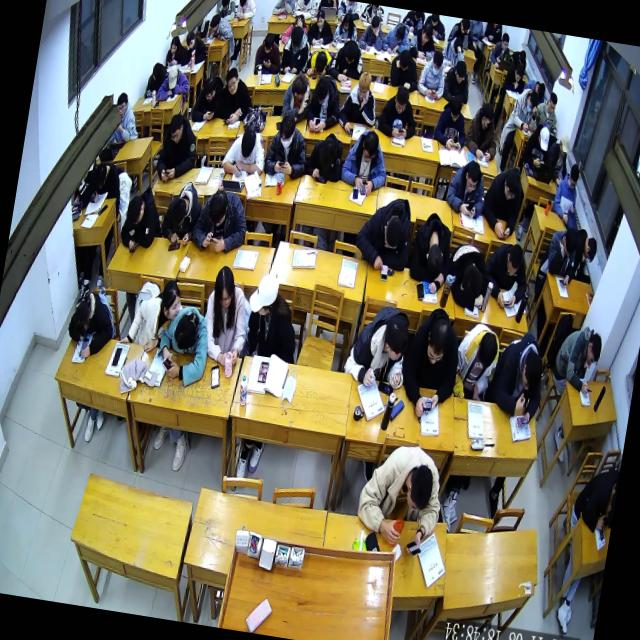bow: (488, 328, 551, 428), (353, 190, 418, 274), (155, 301, 214, 388), (122, 274, 184, 354), (190, 185, 252, 259), (406, 210, 456, 295), (65, 290, 118, 361), (482, 238, 532, 308), (443, 240, 492, 310), (118, 188, 166, 254), (159, 180, 204, 247), (220, 124, 270, 182), (542, 224, 580, 289), (218, 67, 256, 127), (304, 74, 342, 134), (304, 130, 347, 182), (279, 71, 314, 127), (329, 39, 366, 82), (192, 73, 224, 121), (155, 63, 192, 104), (388, 48, 421, 90), (442, 58, 473, 102), (382, 18, 412, 56), (180, 32, 208, 68), (302, 48, 333, 80), (489, 32, 514, 70), (208, 12, 237, 42), (440, 36, 467, 68), (502, 62, 527, 94), (508, 49, 528, 73), (216, 0, 238, 21), (272, 0, 296, 16)
down: (262, 112, 312, 182), (510, 86, 541, 136), (404, 462, 435, 511), (424, 316, 452, 366), (535, 89, 562, 129), (212, 264, 236, 308), (172, 312, 198, 351), (520, 352, 545, 392), (206, 188, 230, 228), (476, 330, 500, 370), (382, 214, 404, 250), (584, 332, 604, 368), (360, 129, 381, 163), (502, 167, 522, 202), (276, 115, 296, 149), (168, 196, 188, 228), (72, 301, 92, 333), (125, 194, 146, 224), (506, 242, 524, 276), (562, 226, 580, 258), (166, 113, 184, 145), (463, 162, 481, 194), (240, 127, 258, 158), (312, 74, 330, 104), (356, 72, 372, 102), (393, 87, 410, 115), (319, 134, 337, 160), (92, 162, 109, 189), (289, 24, 305, 50), (583, 237, 598, 264), (342, 41, 358, 65), (202, 76, 218, 100), (536, 125, 550, 152), (430, 50, 444, 76), (454, 58, 468, 84), (314, 50, 329, 74), (447, 99, 462, 122), (396, 50, 411, 72), (568, 164, 580, 191), (420, 22, 434, 44), (166, 66, 179, 89), (263, 32, 275, 53), (558, 136, 570, 156), (452, 36, 464, 56), (394, 24, 406, 44), (369, 15, 381, 34), (314, 9, 326, 28), (184, 32, 196, 49), (500, 32, 510, 52), (210, 14, 221, 32), (514, 64, 524, 81), (517, 49, 527, 66), (342, 12, 352, 29), (534, 82, 546, 96), (170, 36, 178, 56), (220, 0, 230, 9), (239, 0, 249, 6)
lookup: (223, 68, 240, 96), (115, 93, 128, 120)
sit: (353, 437, 448, 548), (398, 304, 466, 419), (342, 298, 415, 391), (240, 271, 307, 362), (198, 264, 256, 368), (451, 320, 503, 401), (552, 321, 606, 394), (339, 127, 393, 196), (480, 162, 526, 240), (155, 112, 202, 184), (570, 464, 620, 530), (336, 70, 382, 136), (446, 155, 492, 217), (378, 82, 422, 138), (464, 102, 504, 162), (432, 98, 472, 152), (550, 162, 582, 224), (110, 90, 144, 146), (278, 24, 312, 79), (415, 48, 450, 100), (85, 162, 124, 206), (570, 228, 600, 282), (521, 122, 553, 172), (253, 30, 285, 77), (543, 134, 572, 182), (306, 7, 338, 47), (408, 21, 438, 59), (358, 13, 387, 51), (332, 10, 360, 46), (144, 61, 167, 98), (446, 17, 472, 49), (165, 34, 186, 66), (235, 0, 259, 22)
